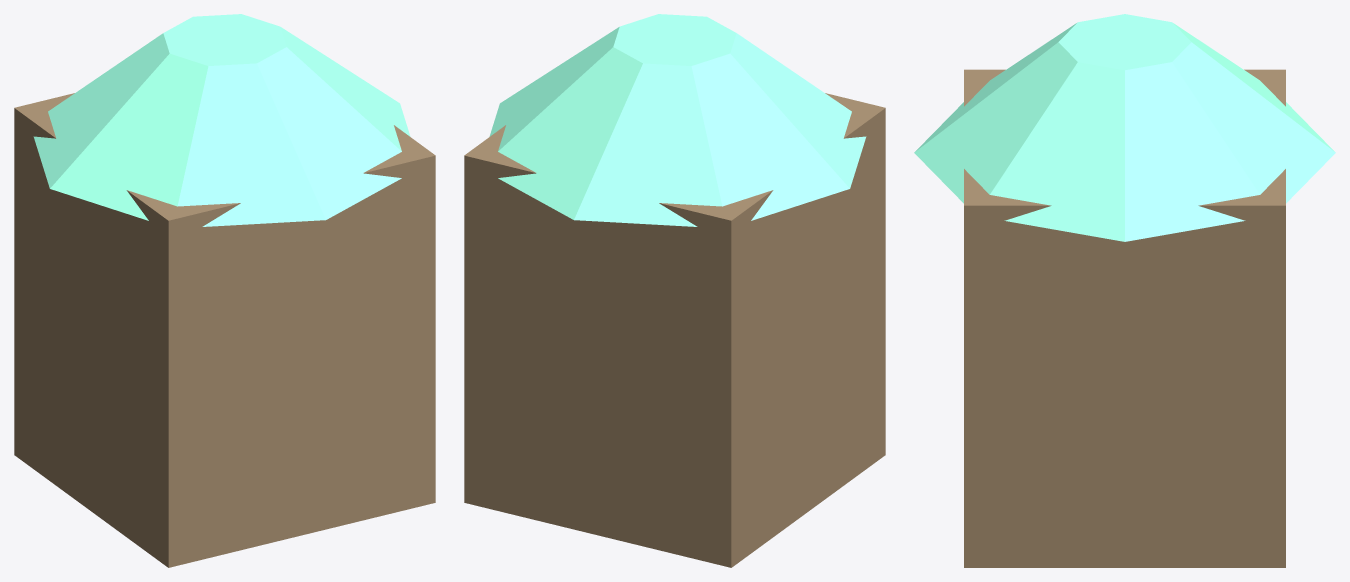
The model's file is prop_intact.glb.
3 renders of one model, left to right at view 1: azimuth 30°, elevation 25°; view 2: azimuth 150°, elevation 25°; view 3: azimuth 270°, elevation 25°, orthographic. The views are drawn at different scales.
Visible parts, largest first — view 1: CrateBody, LanternTop; view 2: CrateBody, LanternTop; view 3: CrateBody, LanternTop.
Boxes of the visible parts, bbox=[...] form: CrateBody: bbox=[14, 93, 435, 567]; LanternTop: bbox=[33, 14, 410, 226]; CrateBody: bbox=[464, 93, 885, 567]; LanternTop: bbox=[489, 14, 866, 226]; CrateBody: bbox=[964, 69, 1285, 567]; LanternTop: bbox=[914, 14, 1335, 241].
Size of the model in its own units: 0.76 by 0.91 by 0.76.
